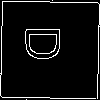D: (24, 24, 70, 62)
